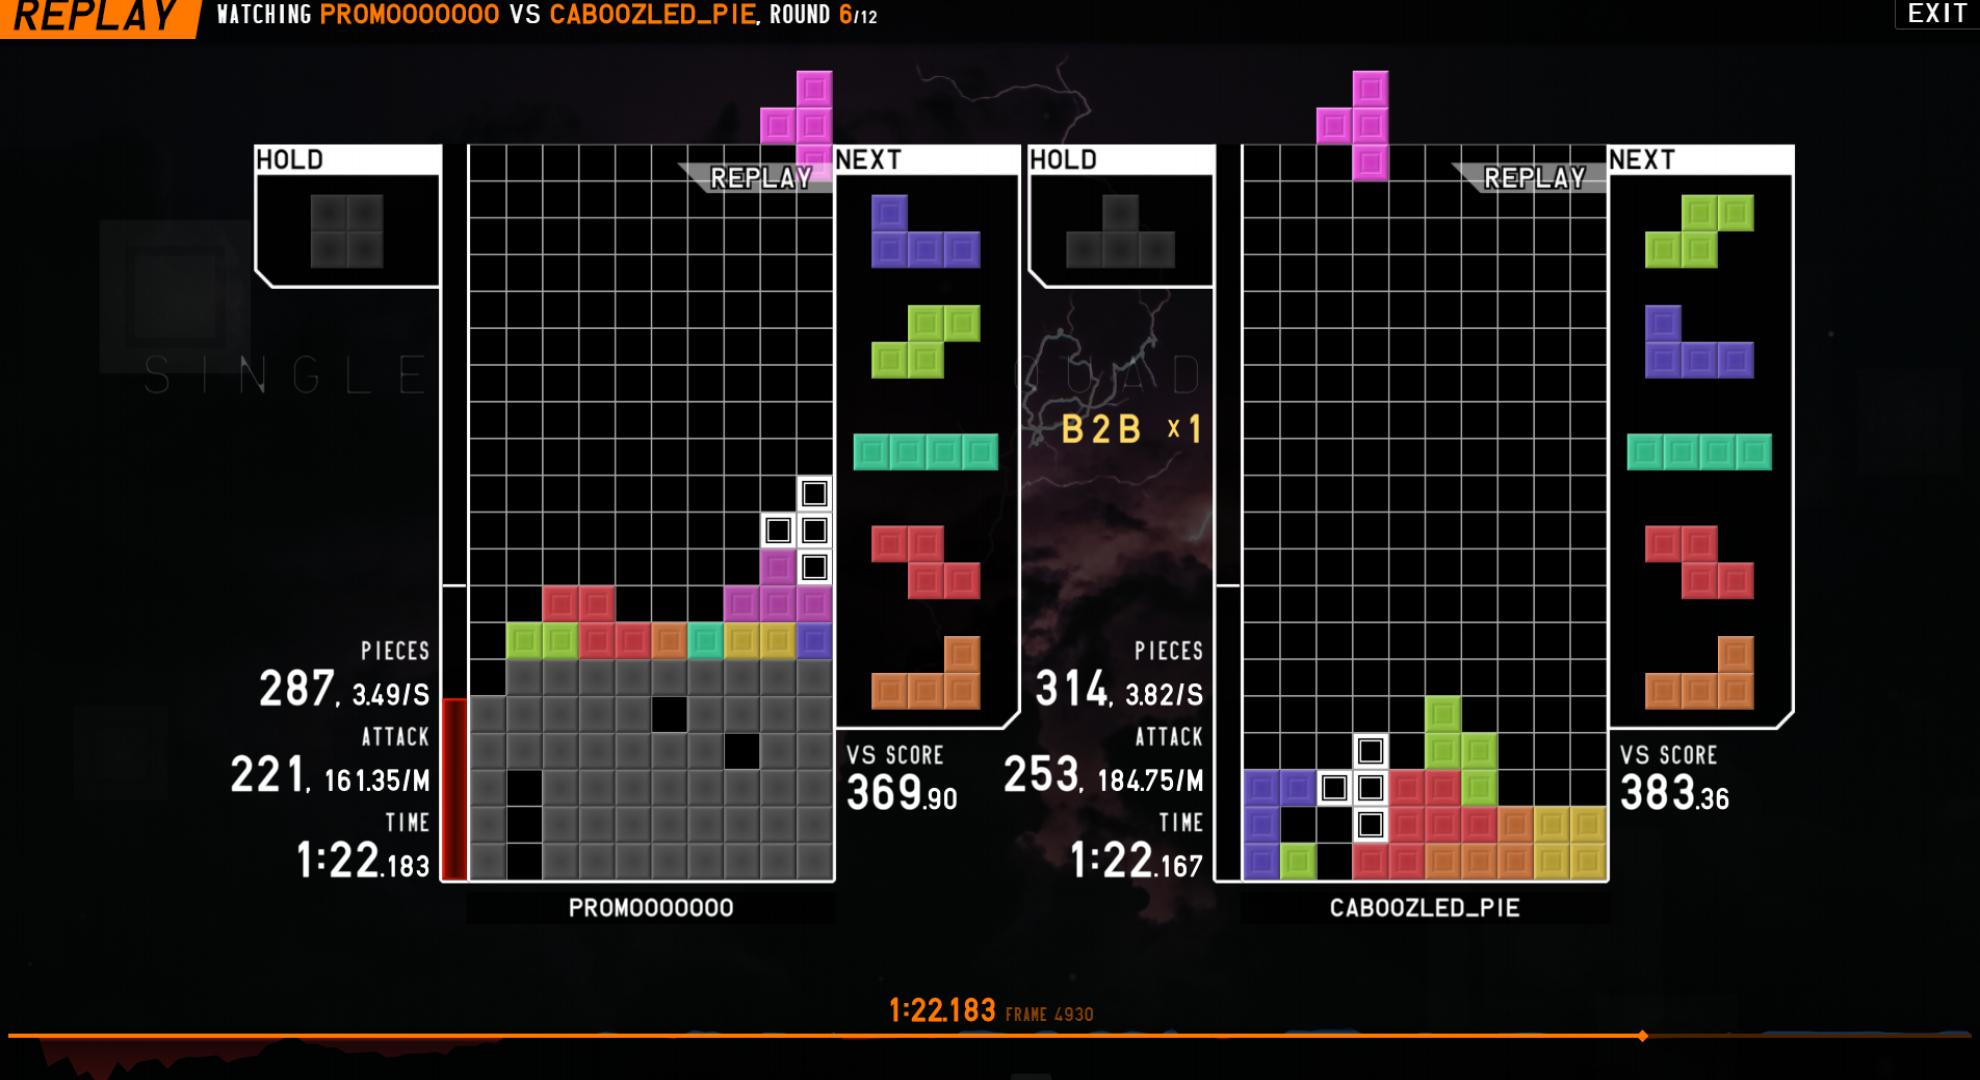tspin: (1274, 763, 1394, 882)
